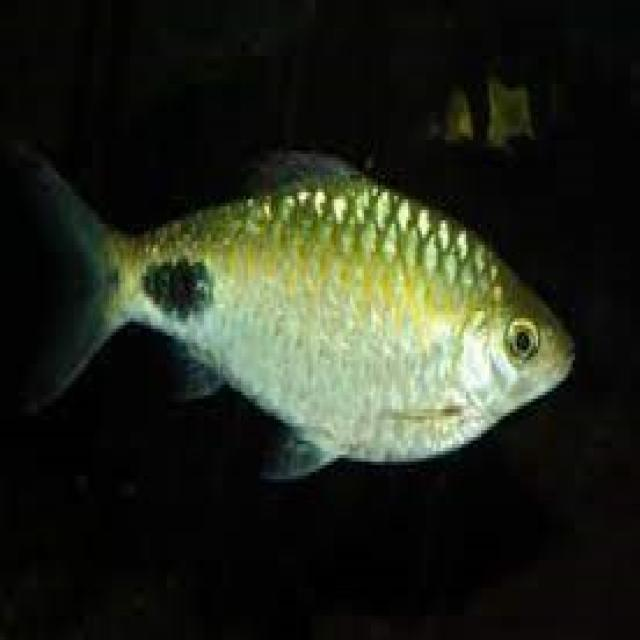Black-Spotted-Barb: (16, 113, 586, 508)
